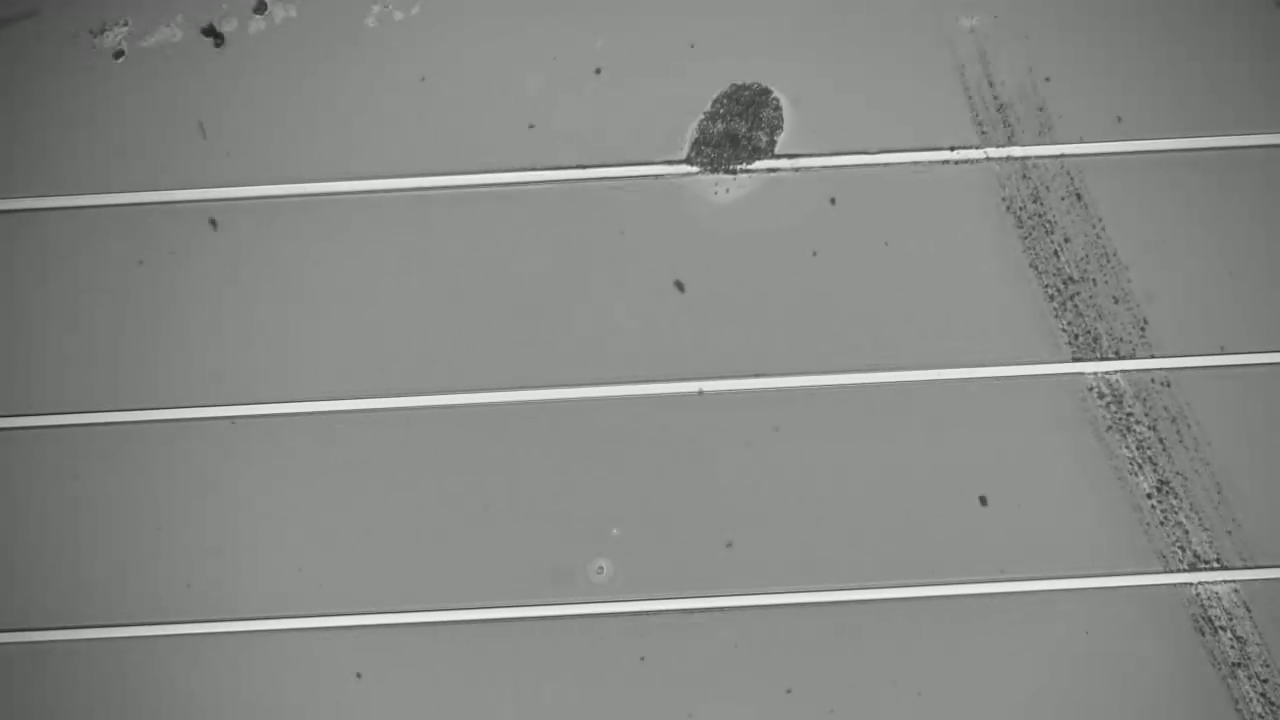scratch: (937, 48, 1280, 720)
stains_enbedded: (652, 57, 804, 214)
